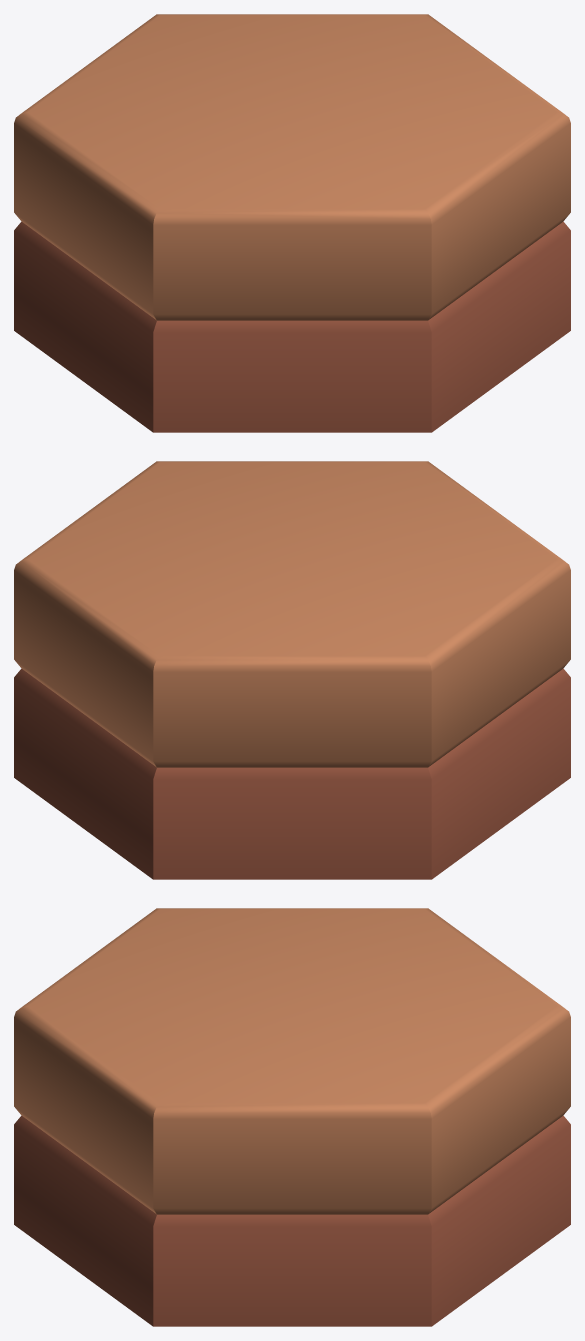
The model's file is hex_rock_detail.glb.
The picture shows the model from 3 angles, top to bottom: view 1: azimuth 30°, elevation 25°; view 2: azimuth 150°, elevation 25°; view 3: azimuth 270°, elevation 25°; orthographic projection.
Visible parts, largest first — view 1: hex_rock_detail; view 2: hex_rock_detail; view 3: hex_rock_detail.
Boxes of the visible parts, x1=… form: hex_rock_detail: x1=14, y1=14, x2=570, y2=432; hex_rock_detail: x1=14, y1=461, x2=570, y2=879; hex_rock_detail: x1=14, y1=908, x2=570, y2=1326.
Size of the model in its own units: 2.4 by 1.2 by 2.77.
